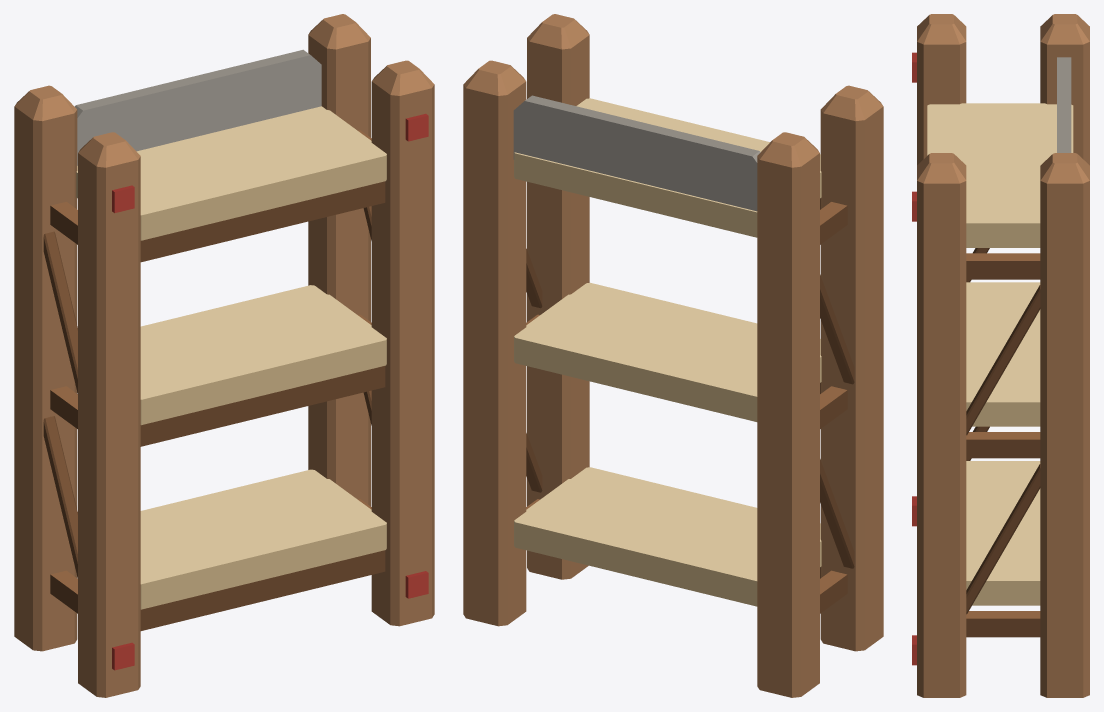
Rendered from FMS_Workshop_FUR_05.fbx.
3 views of the same model, side by side, from view 1: azimuth 30°, elevation 25°; view 2: azimuth 150°, elevation 25°; view 3: azimuth 270°, elevation 25° (orthographic). The views are drawn at different scales.
Parts seen in each view (by area): view 1: FMS_Workshop_FUR_05_Body; view 2: FMS_Workshop_FUR_05_Body; view 3: FMS_Workshop_FUR_05_Body.
Boxes of the visible parts, <box> form: FMS_Workshop_FUR_05_Body: <box>14,14,434,697</box>; FMS_Workshop_FUR_05_Body: <box>463,14,883,697</box>; FMS_Workshop_FUR_05_Body: <box>912,14,1089,697</box>.
Bounding box in the file's own units: 0.92 × 1.42 × 0.432.
